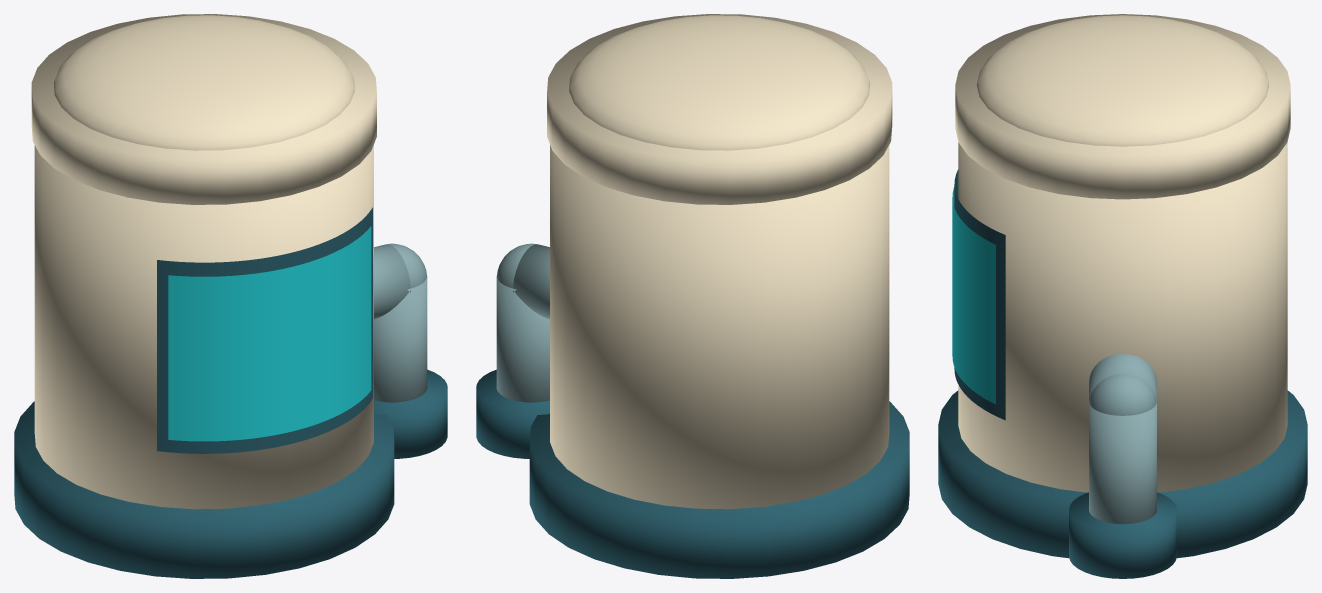
Rendered from refinery.glb.
The picture shows the model from 3 angles, left to right: view 1: azimuth 30°, elevation 25°; view 2: azimuth 150°, elevation 25°; view 3: azimuth 270°, elevation 25°; orthographic projection. The views are drawn at different scales.
Visible parts, largest first — view 1: Refinery tank, Window turquoise glass, Rounded refinery crown, Refinery base, Refinery lid, Window dark border, Refinery pipe, Pipe foot, Refinery pipe connection, Pipe elbow; view 2: Refinery tank, Rounded refinery crown, Refinery base, Refinery lid, Refinery pipe, Pipe foot, Refinery pipe connection, Pipe elbow; view 3: Refinery tank, Rounded refinery crown, Refinery lid, Refinery base, Refinery pipe, Window turquoise glass, Pipe foot, Window dark border, Pipe elbow, Refinery pipe connection.
Part boxes in pixels (box(x1,y1,x2,y2)): Refinery tank: box(34, 145, 373, 509); Window turquoise glass: box(168, 226, 371, 441); Rounded refinery crown: box(53, 15, 354, 150); Refinery base: box(14, 401, 394, 578); Refinery lid: box(31, 14, 376, 204); Window dark border: box(157, 207, 372, 453); Refinery pipe: box(374, 274, 427, 402); Pipe foot: box(374, 369, 447, 458); Refinery pipe connection: box(374, 244, 410, 319); Pipe elbow: box(387, 243, 426, 288); Refinery tank: box(550, 145, 889, 509); Rounded refinery crown: box(569, 15, 870, 150); Refinery base: box(529, 401, 909, 578); Refinery lid: box(547, 14, 892, 204); Refinery pipe: box(496, 274, 549, 402); Pipe foot: box(476, 369, 549, 458); Refinery pipe connection: box(513, 244, 549, 319); Pipe elbow: box(497, 243, 536, 288); Refinery tank: box(958, 142, 1287, 492); Rounded refinery crown: box(976, 15, 1269, 146); Refinery lid: box(955, 14, 1290, 199); Refinery base: box(938, 390, 1307, 558); Refinery pipe: box(1089, 401, 1156, 524); Window turquoise glass: box(952, 187, 995, 404); Pipe foot: box(1069, 492, 1176, 578); Window dark border: box(954, 169, 1005, 420); Pipe elbow: box(1089, 374, 1156, 415); Refinery pipe connection: box(1089, 354, 1156, 400).
Size of the model in its own units: 1.58 by 1.68 by 1.3.
